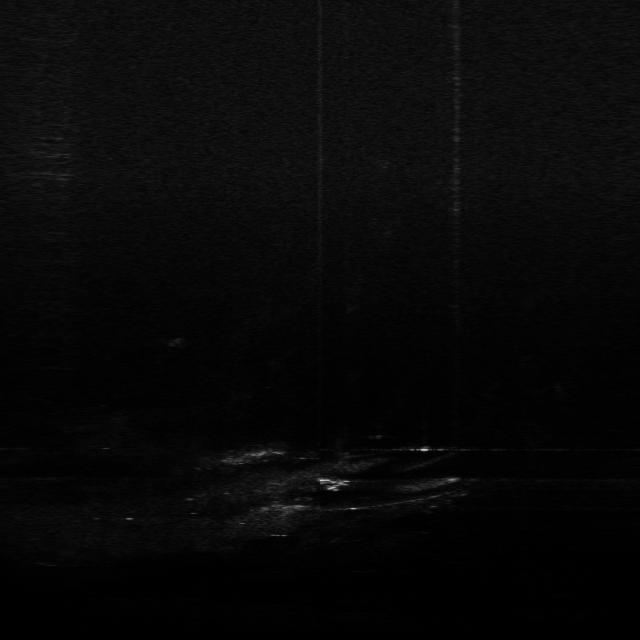rov: (316, 472, 353, 492)
